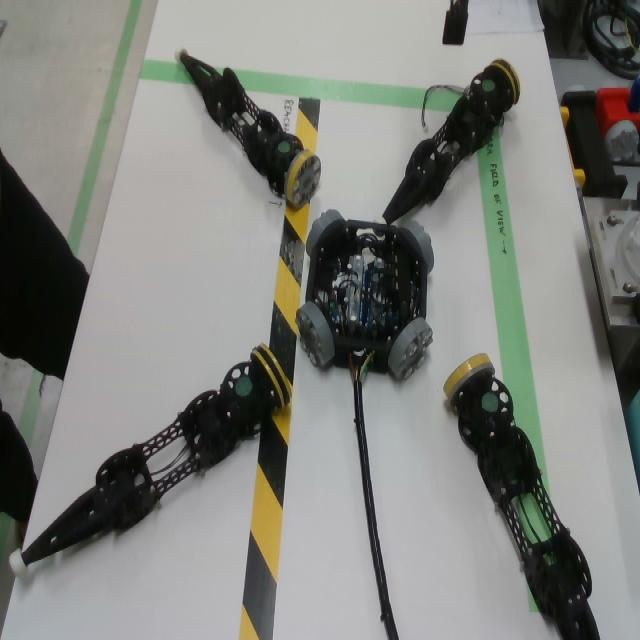body: (305, 220, 426, 375)
body_connector: (386, 316, 433, 384), (296, 301, 336, 369), (305, 209, 343, 257), (399, 223, 434, 275)
leg: (7, 344, 294, 579), (443, 353, 602, 640), (374, 59, 522, 227), (174, 48, 322, 212)
leg_connector: (250, 344, 293, 409), (443, 353, 494, 401), (286, 149, 322, 209), (489, 60, 520, 105)
leg_marker: (234, 376, 254, 397), (481, 392, 499, 413), (481, 80, 496, 93), (278, 141, 291, 153)
